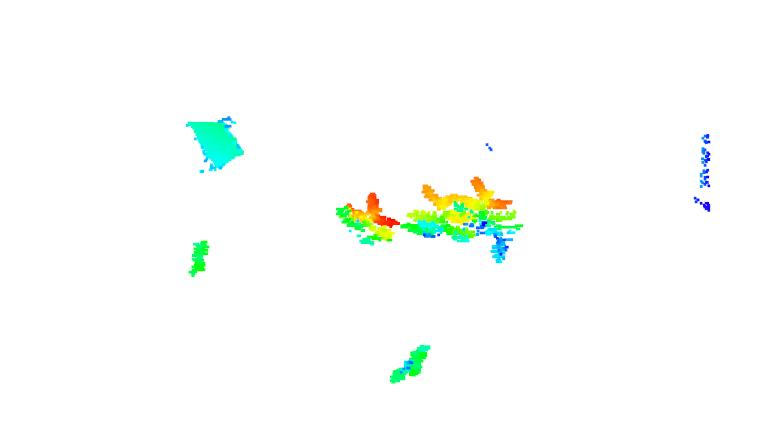chickpea: (391, 174, 525, 265), (335, 187, 406, 254), (376, 344, 436, 388), (187, 233, 219, 280)
